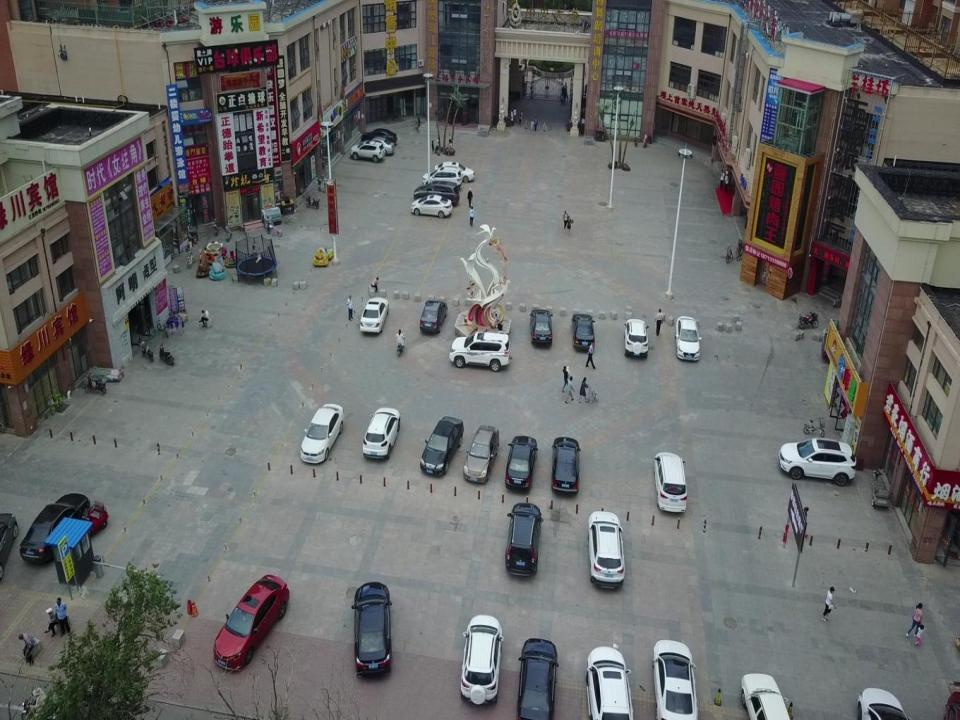car: (214, 573, 289, 670), (19, 491, 90, 563), (775, 439, 858, 488), (351, 578, 392, 673), (460, 612, 501, 705), (653, 636, 698, 720), (516, 635, 560, 717), (585, 643, 631, 720), (587, 508, 627, 590), (417, 413, 465, 475), (504, 500, 541, 580), (448, 330, 512, 371), (299, 404, 344, 462), (741, 671, 789, 720), (653, 452, 690, 515), (464, 424, 498, 485), (363, 407, 399, 461), (504, 434, 537, 491), (857, 683, 907, 720), (552, 437, 580, 497), (673, 314, 701, 364), (358, 296, 390, 336), (408, 193, 452, 219), (420, 299, 449, 337), (624, 316, 649, 360), (433, 159, 475, 185), (414, 183, 460, 206), (570, 312, 596, 349), (530, 309, 554, 347), (348, 138, 385, 162), (362, 126, 398, 150), (424, 168, 462, 188), (363, 135, 394, 157)
